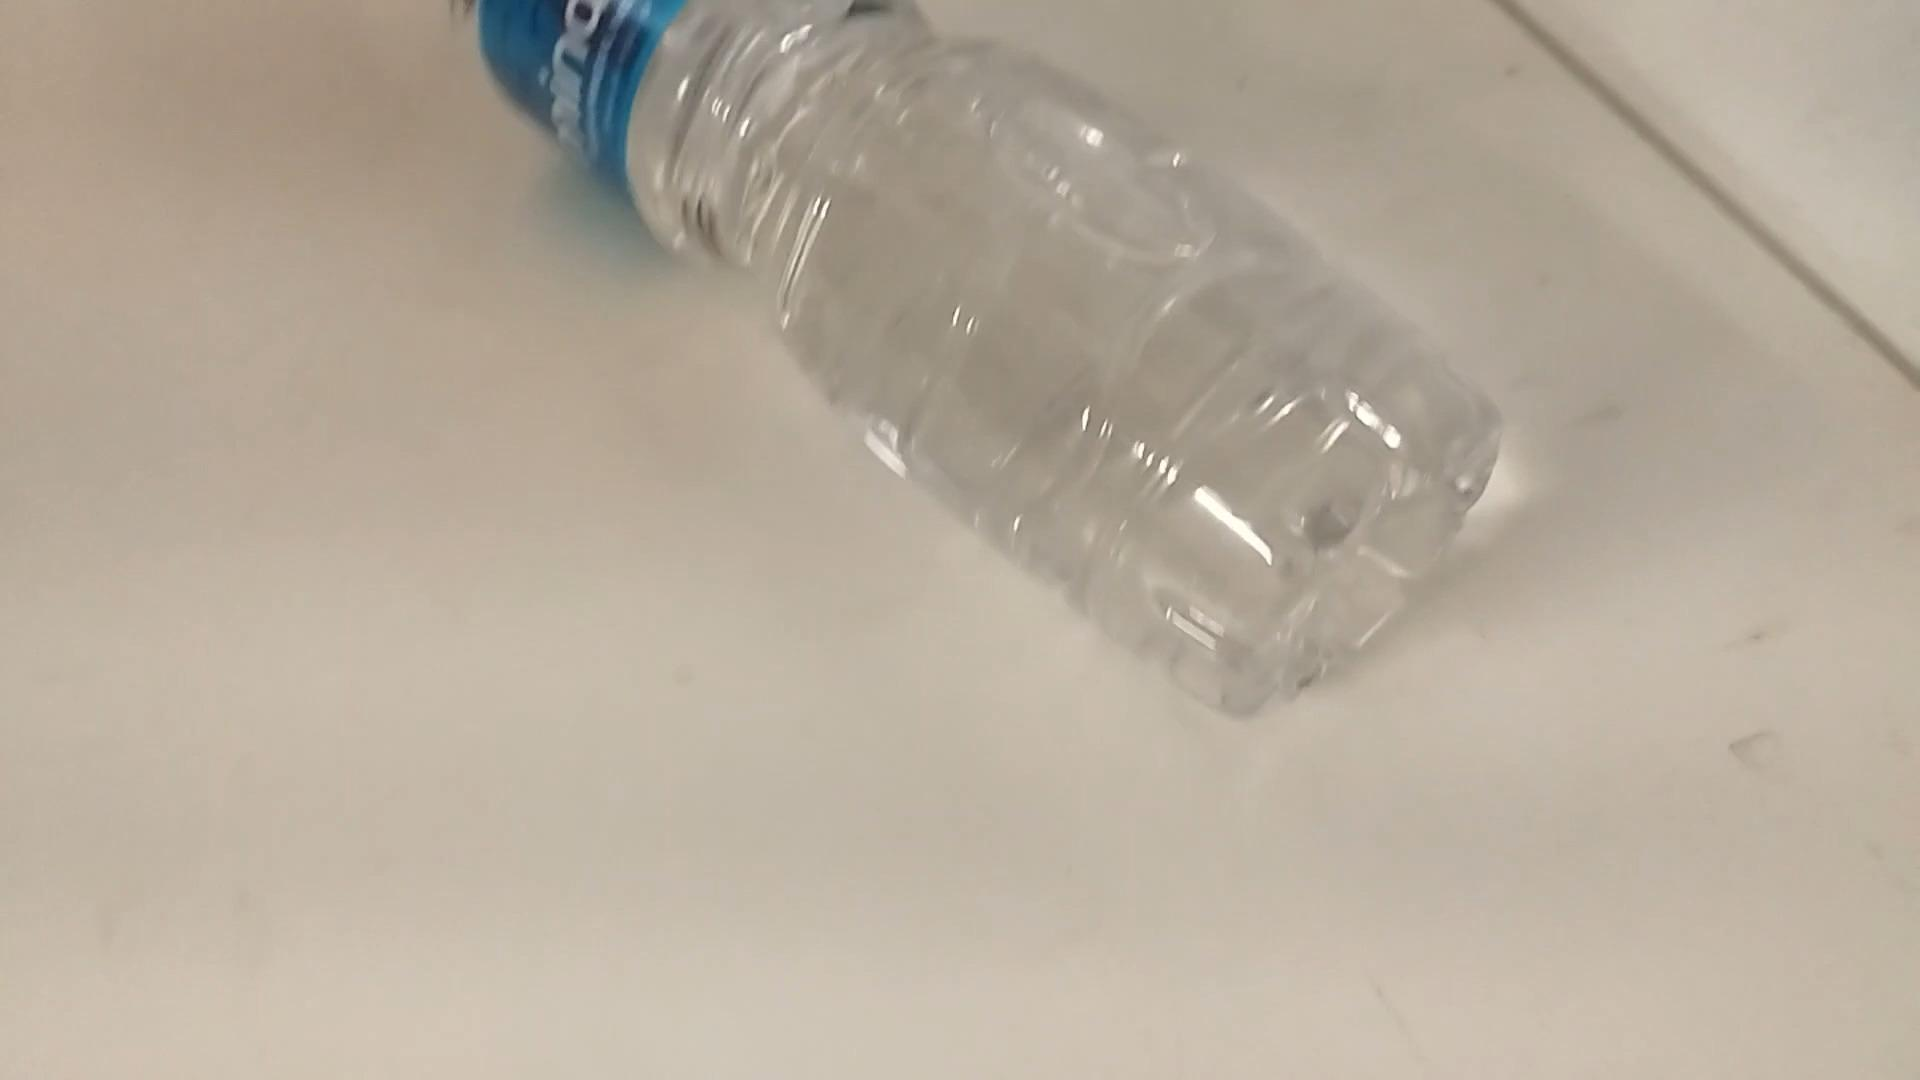agua: (475, 0, 1474, 716)
